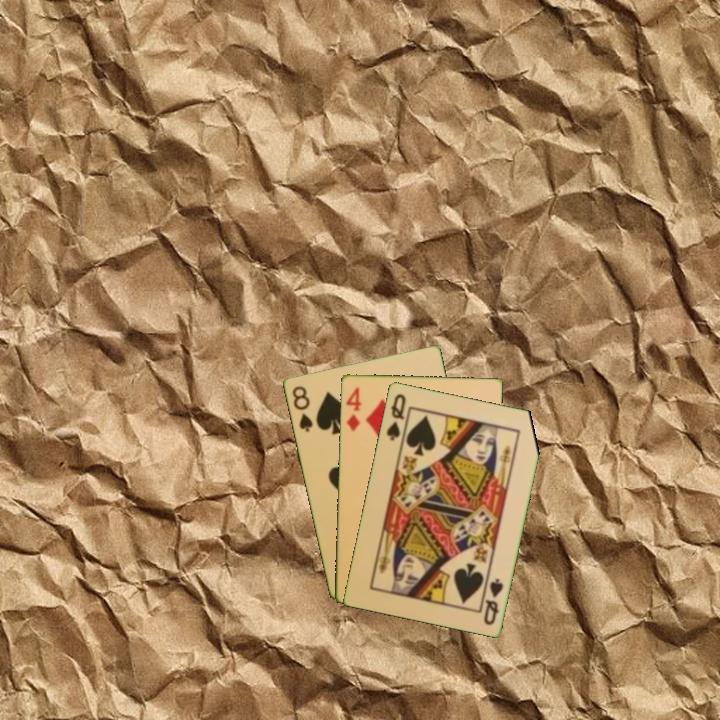4d: (342, 383, 364, 433)
8s: (288, 382, 315, 434)
Qs: (480, 574, 506, 628), (383, 390, 408, 443)
